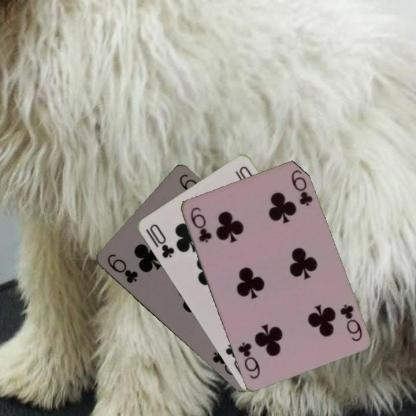10c: (146, 221, 176, 259)
6c: (104, 251, 139, 285), (187, 204, 213, 246), (337, 301, 363, 343)
